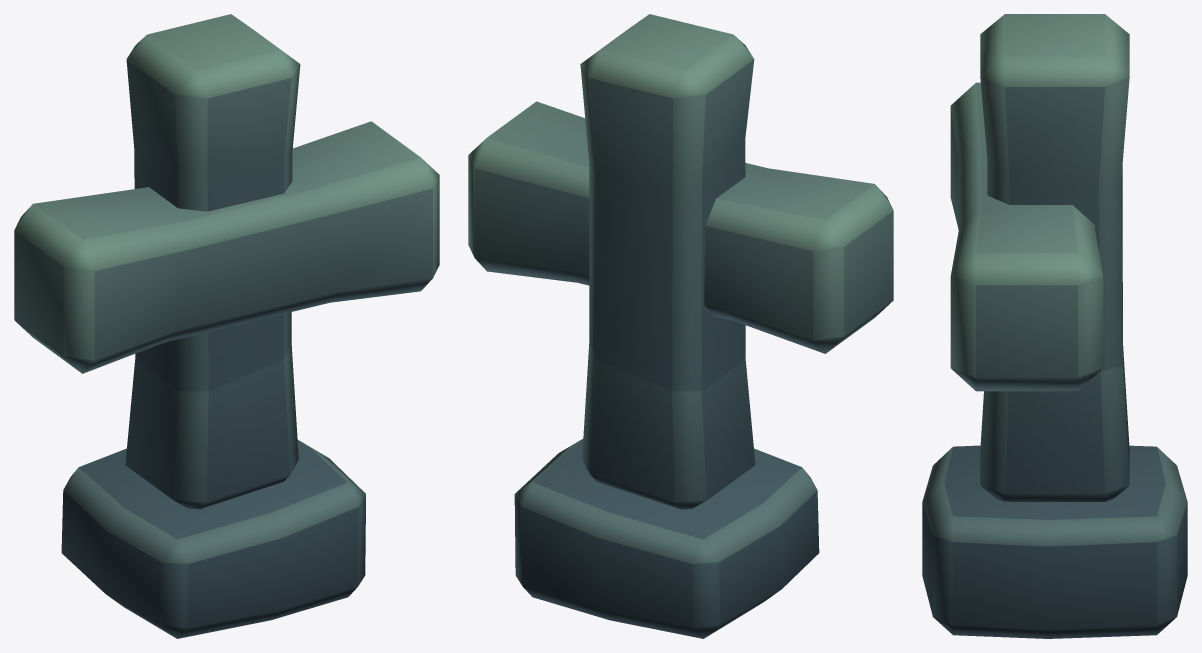
File: cross_stone_LOD_setup.fbx
The picture shows the model from 3 angles, left to right: view 1: azimuth 30°, elevation 25°; view 2: azimuth 150°, elevation 25°; view 3: azimuth 270°, elevation 25°; orthographic projection. The views are drawn at different scales.
Visible parts, largest first — view 1: cross_stone_LOD0; view 2: cross_stone_LOD0; view 3: cross_stone_LOD0.
Part boxes in pixels (box(x1,y1,x2,y2)): cross_stone_LOD0: box(14, 14, 439, 638); cross_stone_LOD0: box(468, 14, 893, 638); cross_stone_LOD0: box(922, 14, 1187, 638).
Size of what is drawn, in the model's own units: 80 by 110 by 47.39.
